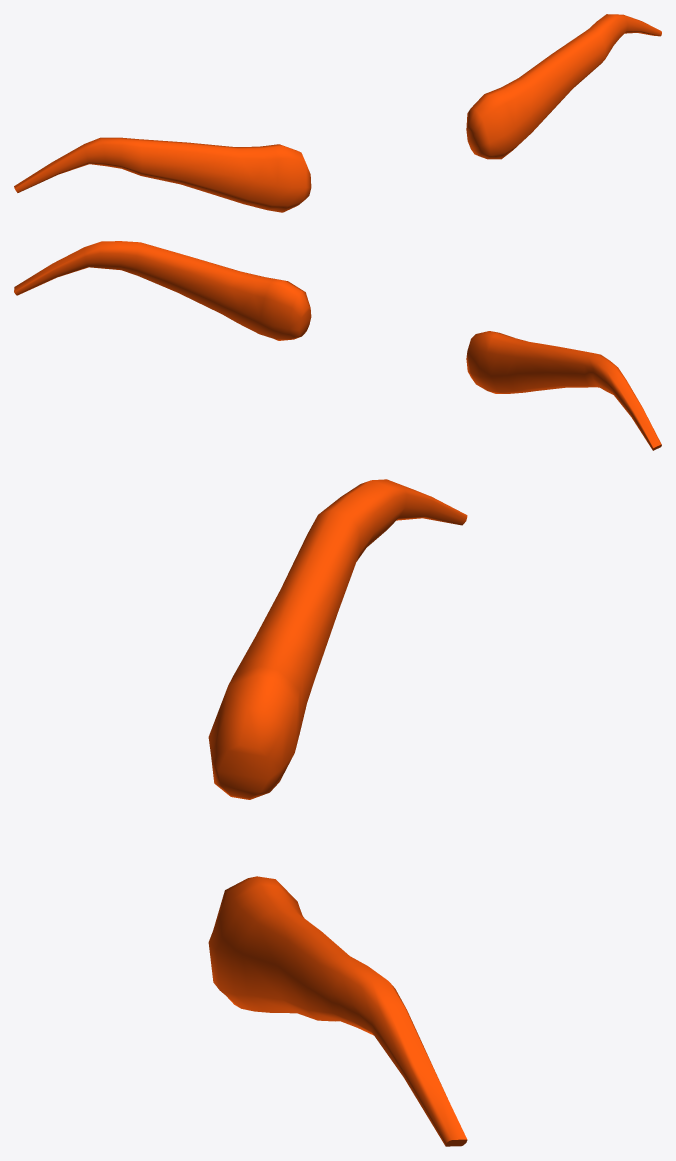
The model's file is Eyebrows_12_06.fbx.
3 renders of one model, top to bottom at view 1: azimuth 30°, elevation 25°; view 2: azimuth 150°, elevation 25°; view 3: azimuth 270°, elevation 25°, orthographic. The views are drawn at different scales.
Parts seen in each view (by area): view 1: Eyebrows_12_06; view 2: Eyebrows_12_06; view 3: Eyebrows_12_06.
Part boxes in pixels (box(x1,y1,x2,y2)): Eyebrows_12_06: box(14, 14, 661, 212); Eyebrows_12_06: box(14, 241, 661, 450); Eyebrows_12_06: box(208, 479, 467, 1146).
Bounding box in the file's own units: 19.63 × 2.48 × 3.4.
